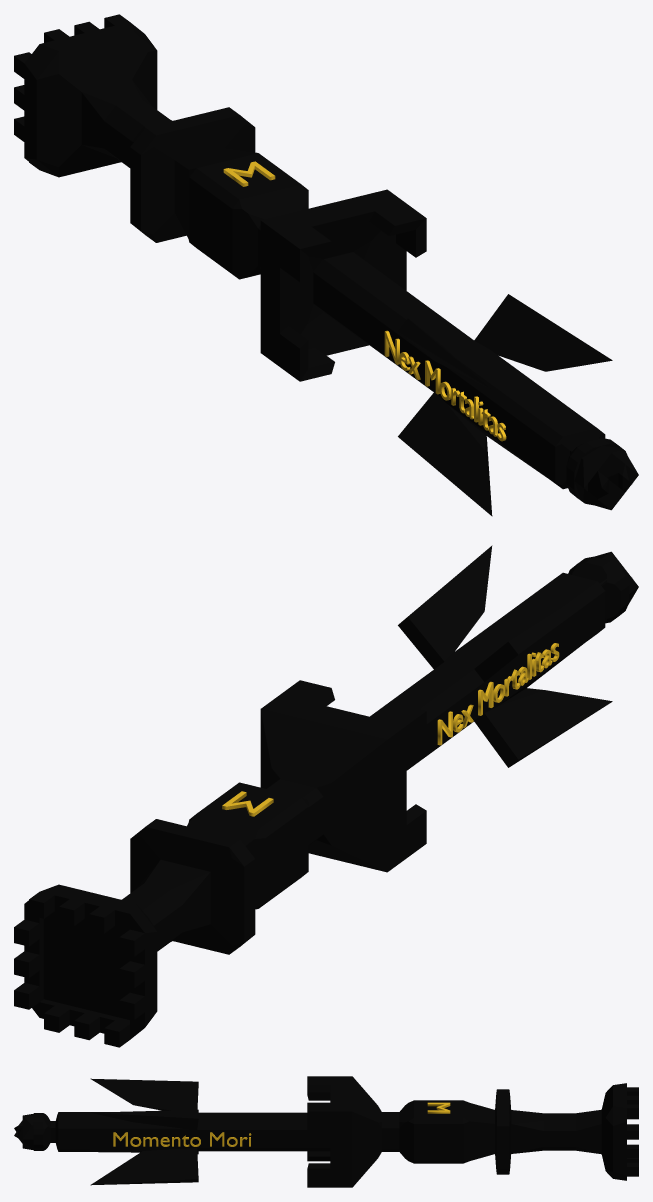
Rendered from Morgue_Key.fbx.
The picture shows the model from 3 angles, top to bottom: view 1: azimuth 30°, elevation 25°; view 2: azimuth 150°, elevation 25°; view 3: azimuth 270°, elevation 25°; orthographic projection. The views are drawn at different scales.
Visible parts, largest first — view 1: Cube, Text.001; view 2: Cube, Text.001; view 3: Cube, Text, Text.002.
Part boxes in pixels (x1=…): Cube: x1=14, y1=14, x2=638, y2=516; Text.001: x1=384, y1=330, x2=506, y2=441; Cube: x1=14, y1=545, x2=638, y2=1047; Text.001: x1=437, y1=643, x2=559, y2=745; Cube: x1=14, y1=1076, x2=638, y2=1187; Text: x1=113, y1=1132, x2=251, y2=1146; Text.002: x1=427, y1=1102, x2=450, y2=1113.
Size of the model in its own units: 253 by 253 by 1883.
